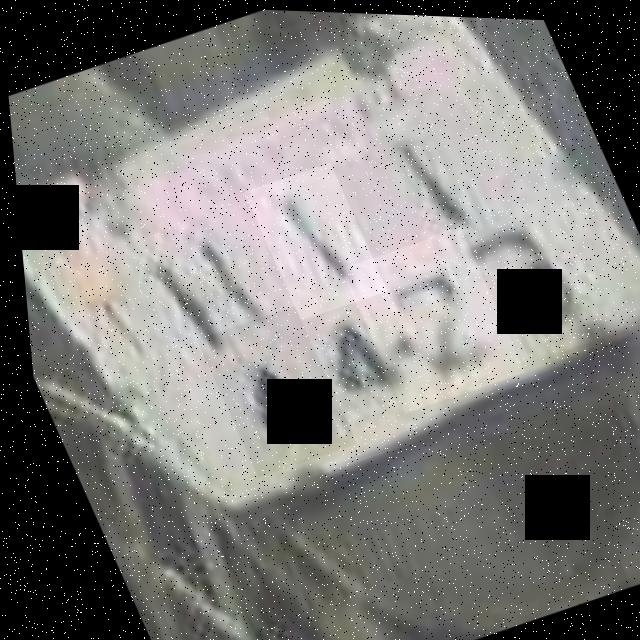2: (333, 221, 522, 414)
3: (416, 171, 628, 380)
4: (188, 301, 351, 478), (269, 267, 426, 445)
I: (238, 157, 385, 321)
